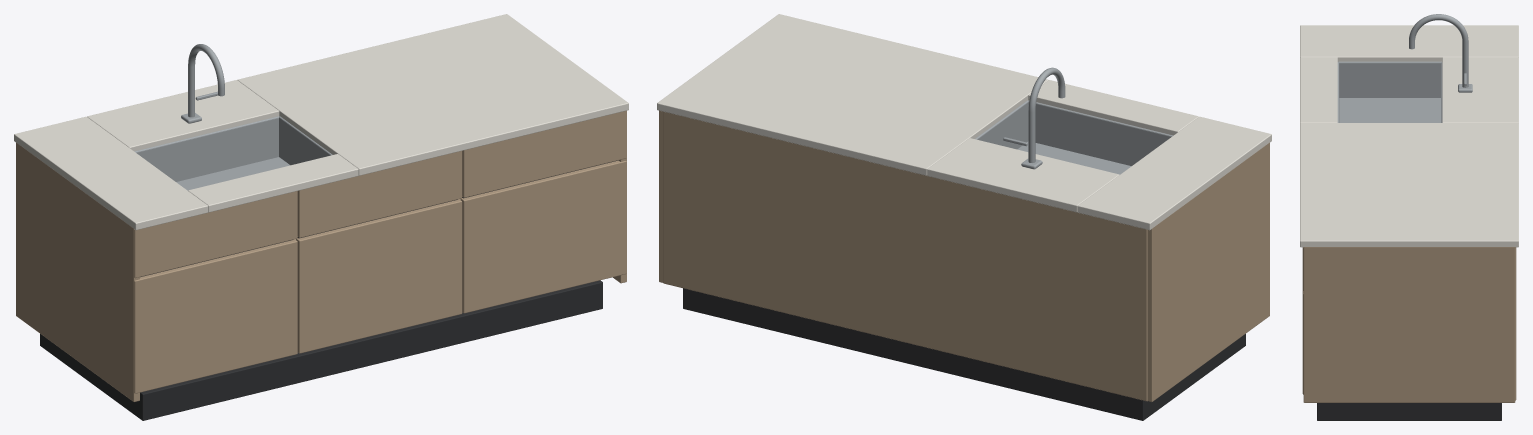
Rendered from original-kitchen-island.glb.
3 renders of one model, left to right at view 1: azimuth 30°, elevation 25°; view 2: azimuth 150°, elevation 25°; view 3: azimuth 270°, elevation 25°, orthographic. The views are drawn at different scales.
Parts seen in each view (by area): view 1: original-kitchen-island; view 2: original-kitchen-island; view 3: original-kitchen-island.
Boxes of the visible parts, <box> form: original-kitchen-island: <box>14,14,628,420</box>; original-kitchen-island: <box>657,14,1271,420</box>; original-kitchen-island: <box>1300,14,1518,420</box>.
Size of the model in its own units: 2.1 by 1.19 by 0.9.
